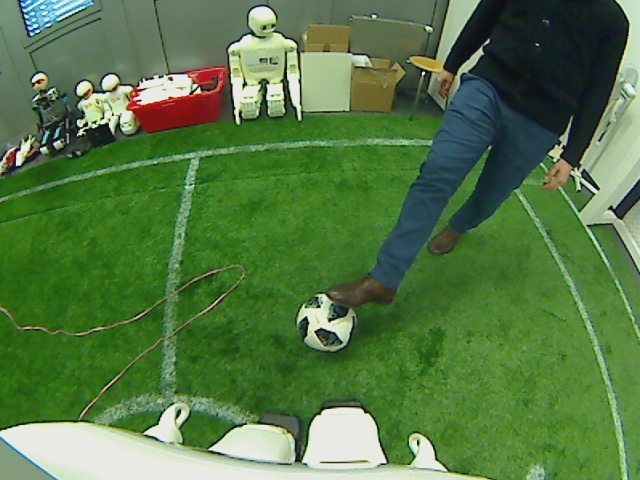ball: (294, 292, 359, 352)
